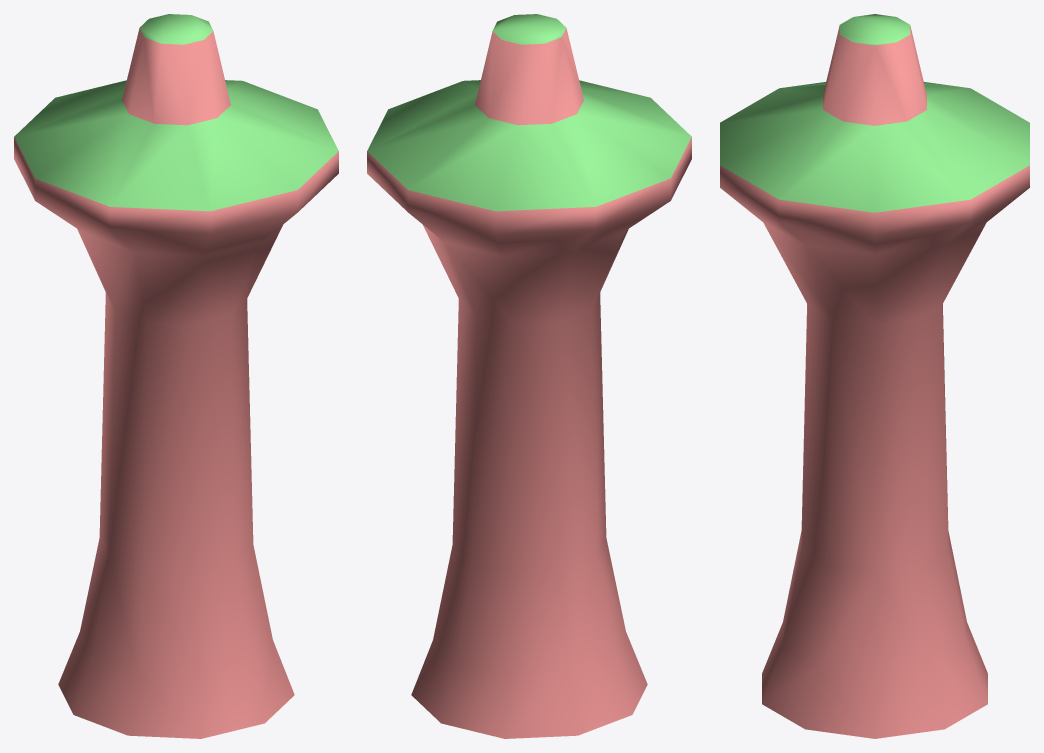
Rendered from mush_piece_04.gltf.
3 renders of one model, left to right at view 1: azimuth 30°, elevation 25°; view 2: azimuth 150°, elevation 25°; view 3: azimuth 270°, elevation 25°, orthographic.
Visible parts, largest first — view 1: mush_piece_04; view 2: mush_piece_04; view 3: mush_piece_04.
Boxes of the visible parts, x1,y1,x2,y2 form: mush_piece_04: (14,14,338,738); mush_piece_04: (367,14,691,738); mush_piece_04: (720,14,1029,738).
Size of the model in its own units: 1.95 by 4.35 by 1.85.
